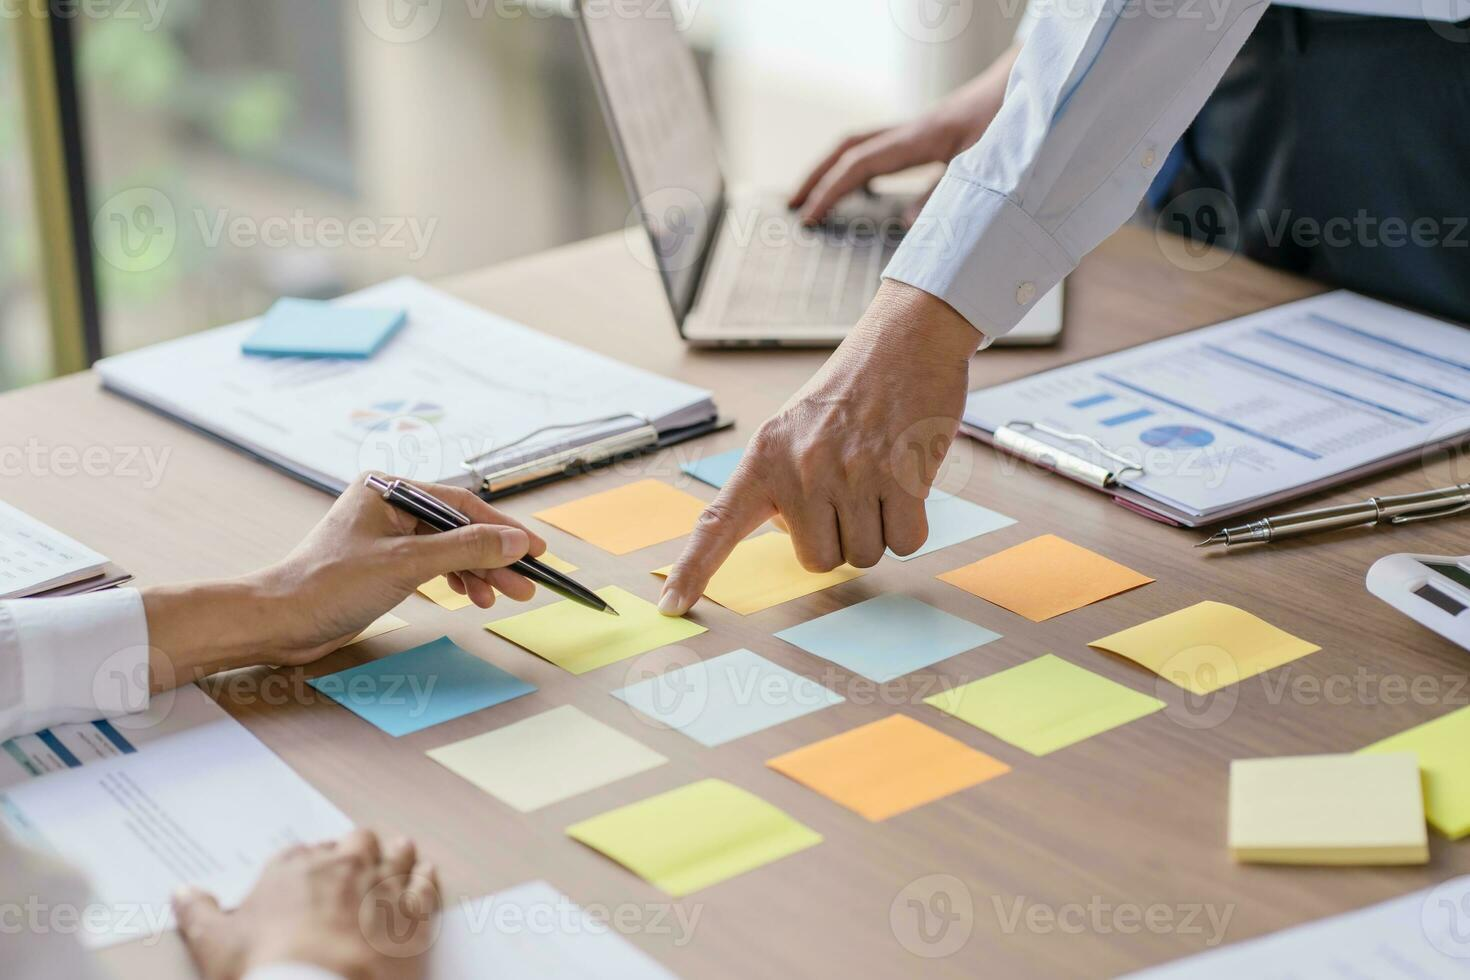pointing_gesture: (649, 319, 976, 620)
